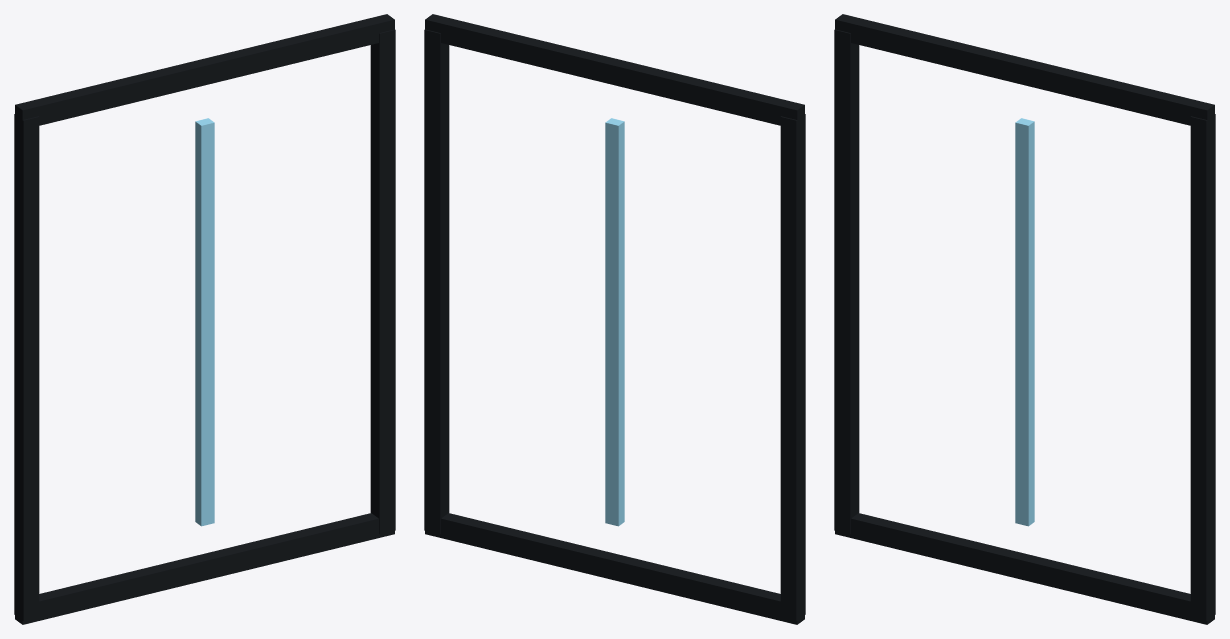
3 renders of one model, left to right at view 1: azimuth 30°, elevation 25°; view 2: azimuth 150°, elevation 25°; view 3: azimuth 330°, elevation 25°, orthographic.
Parts seen in each view (by area): view 1: post-a, post-b, emitter, receiver, field; view 2: post-a, post-b, emitter, receiver, field; view 3: post-b, post-a, emitter, receiver, field.
Part boxes in pixels (x1,y1,x2,y2): post-a: (14,114,39,621); post-b: (370,29,395,534); emitter: (15,14,394,128); receiver: (15,513,394,624); field: (195,118,214,526); post-a: (780,114,805,621); post-b: (424,29,449,534); emitter: (425,14,804,125); receiver: (425,513,804,624); field: (605,118,624,526); post-b: (1190,114,1215,621); post-a: (834,29,859,534); emitter: (835,14,1214,127); receiver: (835,513,1214,624); field: (1015,118,1034,526).
Size of the model in its own units: 1.4 by 1.85 by 0.06.
